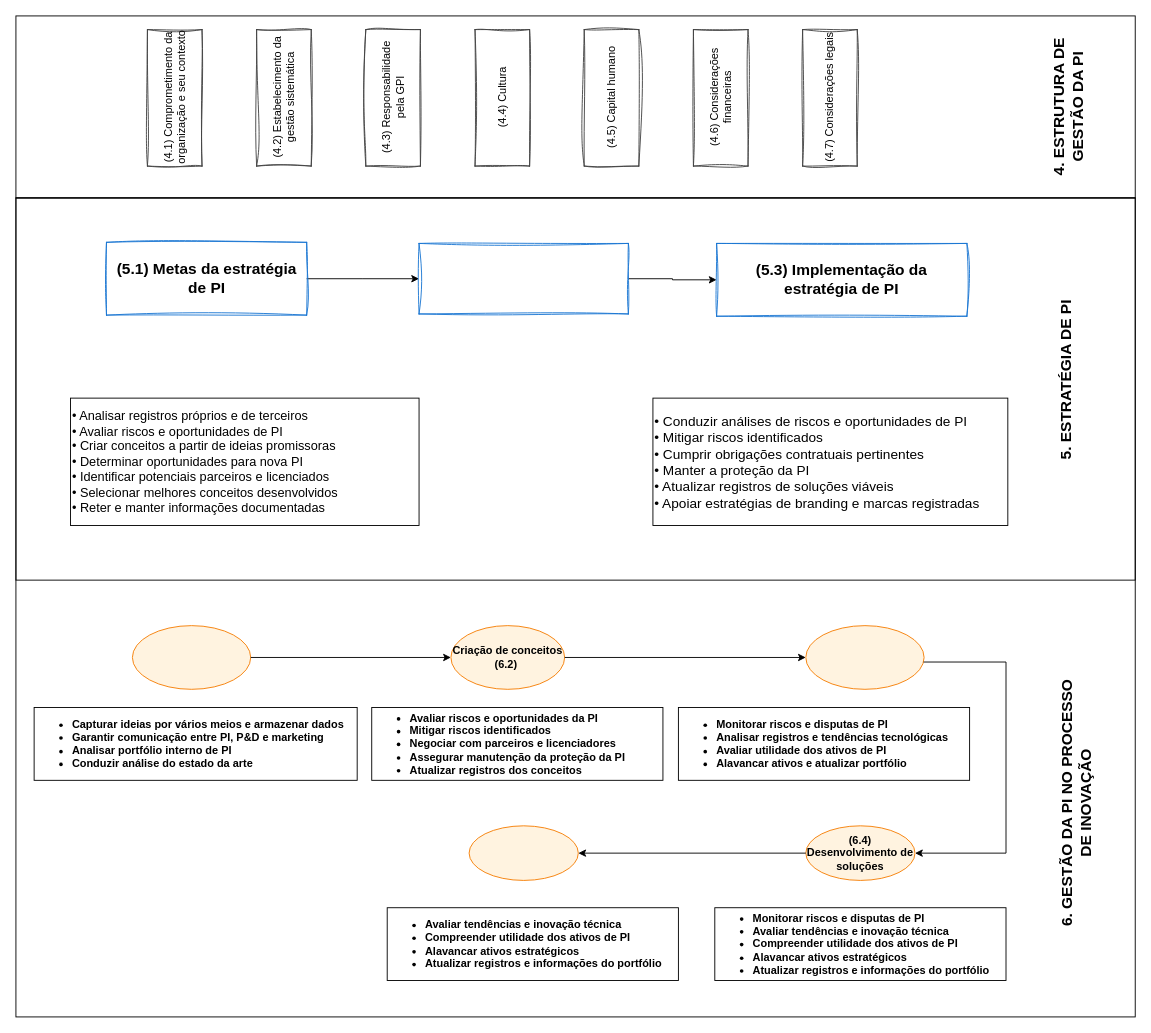
Image size: 1151x1033. Some labels were removed from this diagram. The box of each missing label's shape, as (x1, y1, x2, y2) in pixels:
(5.2) Desenvolvimento da estratégia de PI: (418, 243, 628, 314)
(6.5) Implantação de soluções: (468, 825, 578, 880)
Identificação de oportunidades (6.1): (131, 625, 251, 689)
Validação de conceitos (6.3): (805, 625, 924, 689)
